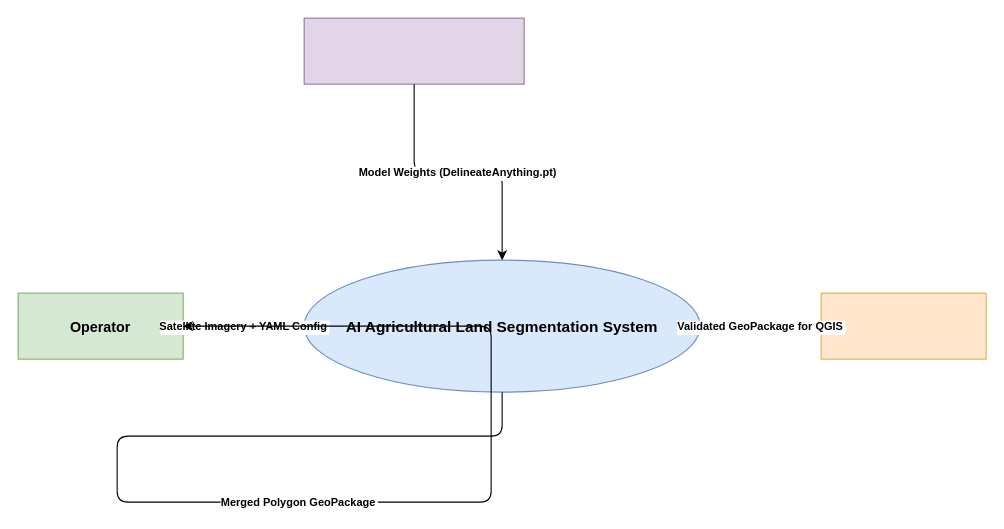
Image size: 1004x529. Some labels were removed from this diagram. Here are the shapes that lost their labels. From the top down, the centre of each, then its label:
At [413,50]: "HuggingFace Hub".
At [903,325]: "GIS Analyst".
